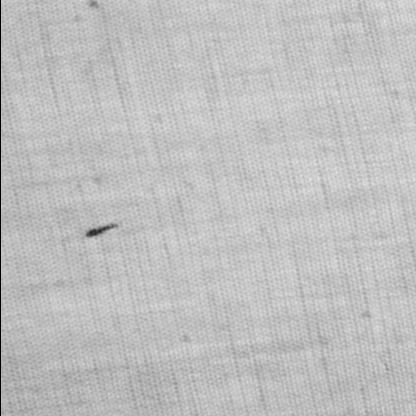oil spot: (84, 220, 122, 238)
